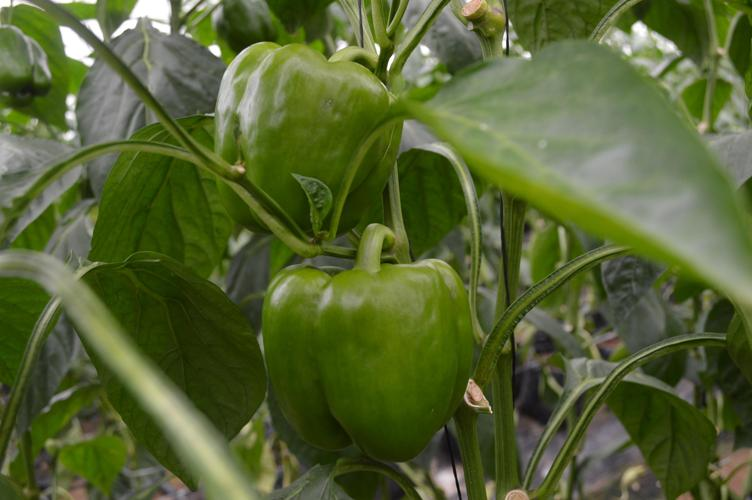BellPepper: (264, 259, 473, 458), (215, 44, 398, 233), (4, 26, 48, 104)
